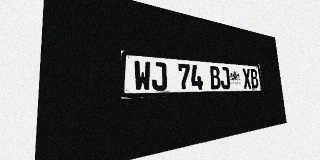4: (190, 64, 203, 90)
7: (177, 63, 191, 90)
B: (209, 66, 221, 89), (250, 69, 259, 88)
J: (151, 61, 167, 91), (219, 66, 231, 89)
W: (134, 60, 151, 91)
X: (242, 68, 252, 89)
